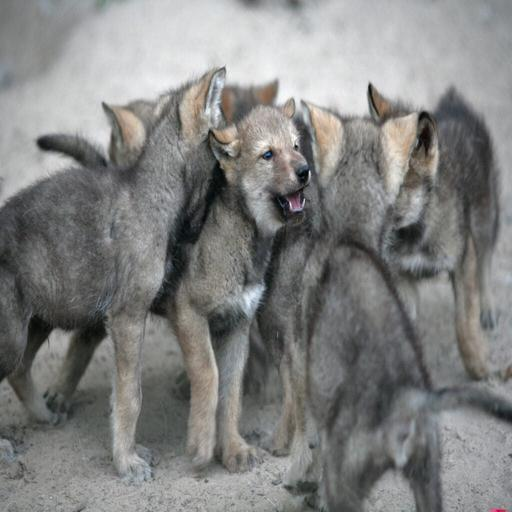Wolf: (37, 100, 315, 493), (0, 76, 212, 512), (284, 94, 469, 512), (353, 73, 512, 395), (189, 67, 322, 370)
